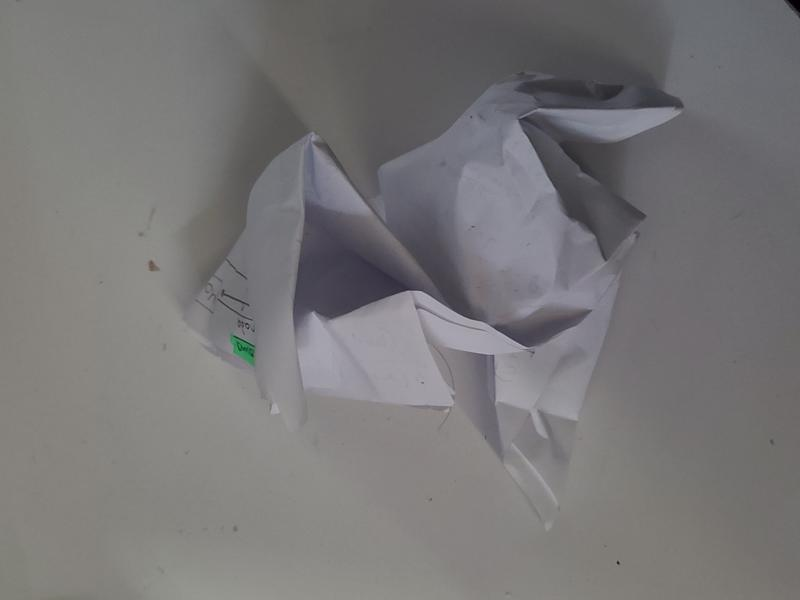papel: (176, 65, 686, 538)
